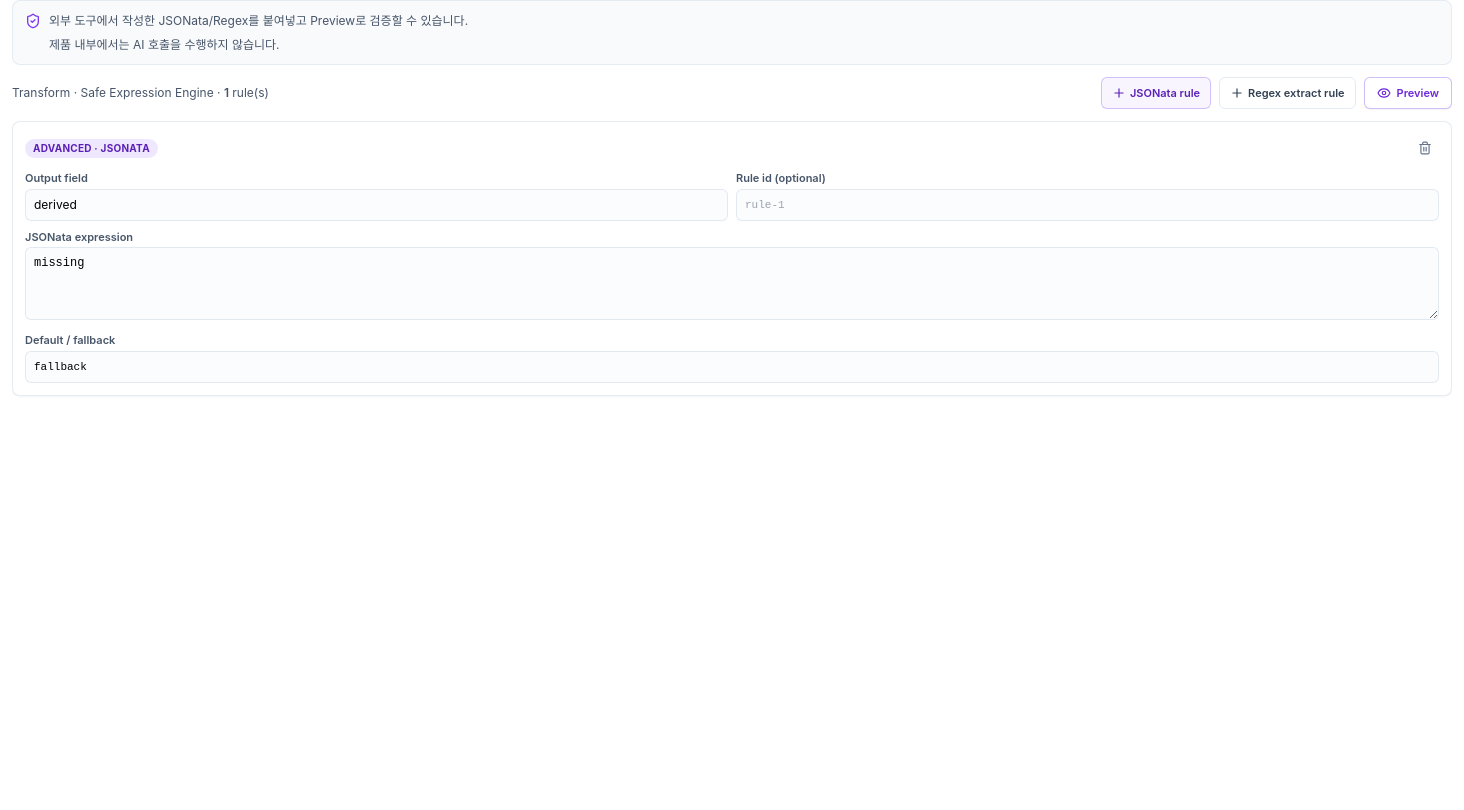
Test: AdvancedTransformWorkspace › shows warnings when preview recovers via default
Click the button "Preview": (1408, 93) [1364,77,1452,109]
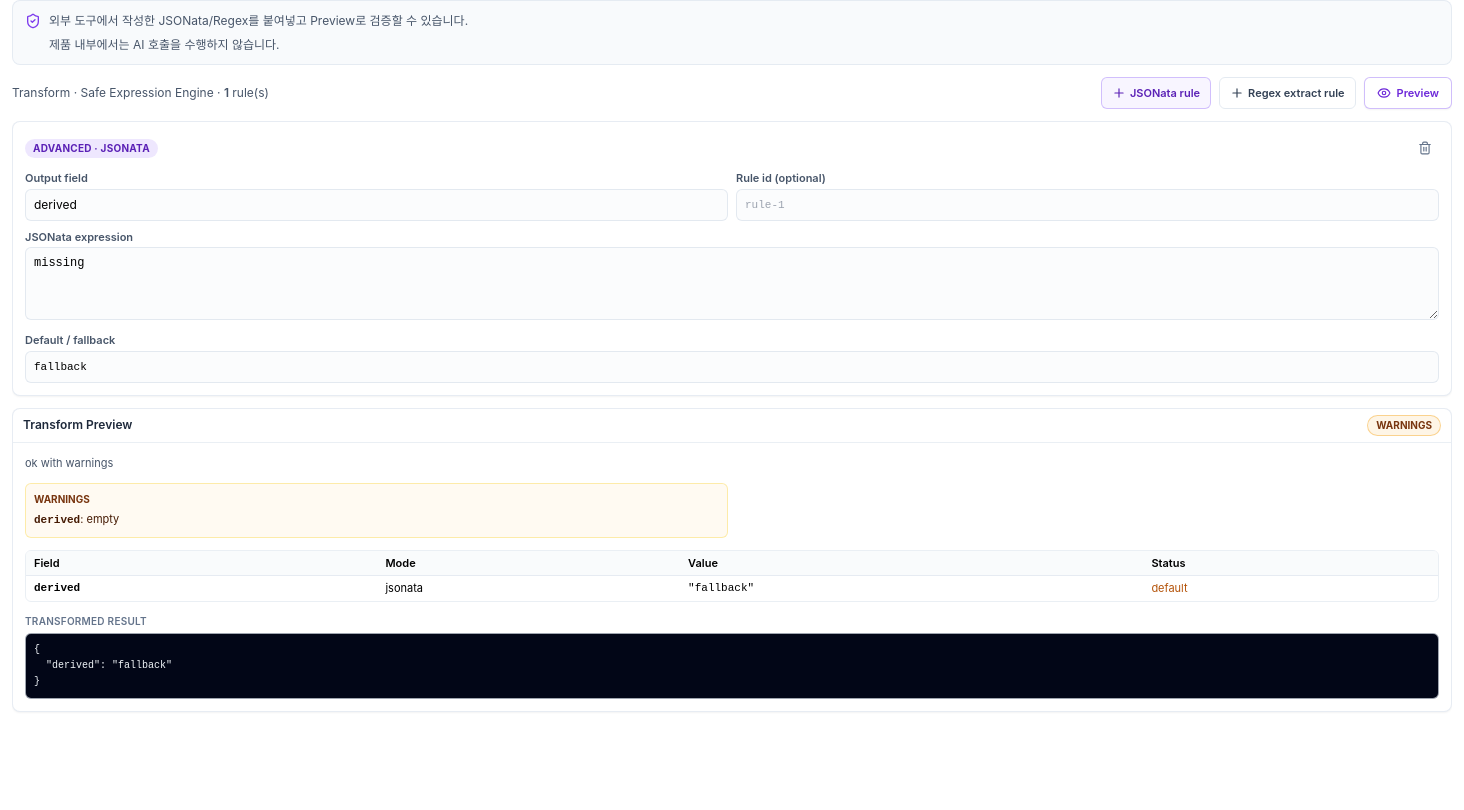
Check: the text "ok with warnings" is shown, box [25,456,113,470]
